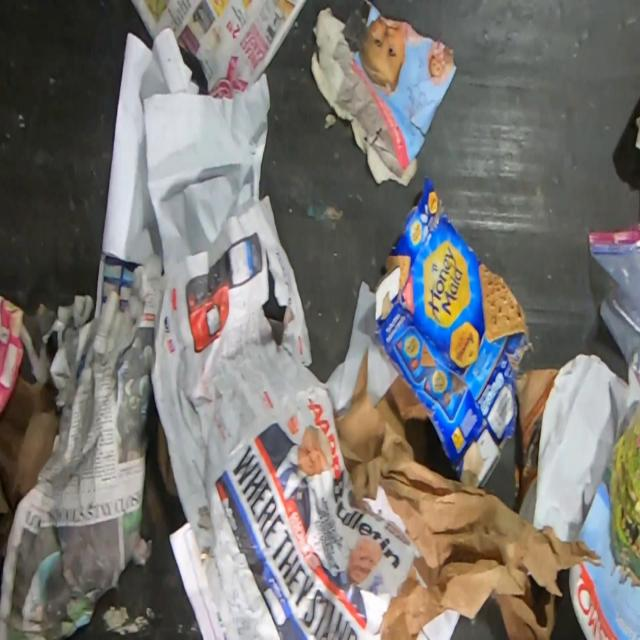cardboard: (372, 175, 535, 489), (0, 293, 25, 417)
soft_plastic: (587, 222, 640, 376)
